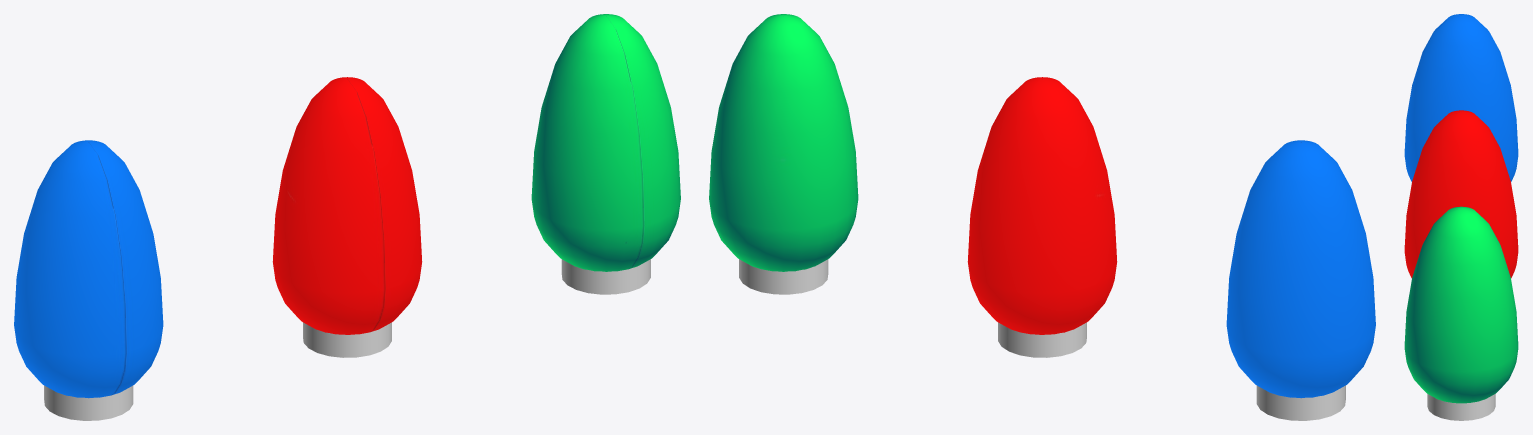
The model's file is christmas_lights.glb.
3 views of the same model, side by side, from view 1: azimuth 30°, elevation 25°; view 2: azimuth 150°, elevation 25°; view 3: azimuth 270°, elevation 25° (orthographic). The views are drawn at different scales.
Visible parts, largest first — view 1: Object_3, Object_2, Object_4, Object_5; view 2: Object_3, Object_2, Object_4, Object_5; view 3: Object_4, Object_2, Object_3, Object_5.
Boxes of the visible parts, <box> form: Object_3: <box>14,140,163,398</box>; Object_2: <box>272,77,422,334</box>; Object_4: <box>531,14,680,271</box>; Object_5: <box>44,259,650,420</box>; Object_3: <box>1226,140,1375,398</box>; Object_2: <box>967,77,1117,334</box>; Object_4: <box>709,14,858,271</box>; Object_5: <box>739,259,1345,420</box>; Object_4: <box>1404,206,1518,403</box>; Object_2: <box>1404,110,1518,278</box>; Object_3: <box>1404,14,1518,181</box>; Object_5: <box>1427,394,1495,420</box>.
Size of the model in its own units: 0.3666 by 0.1408 by 0.0733.
Materials: 4 (3 with a texture image).
